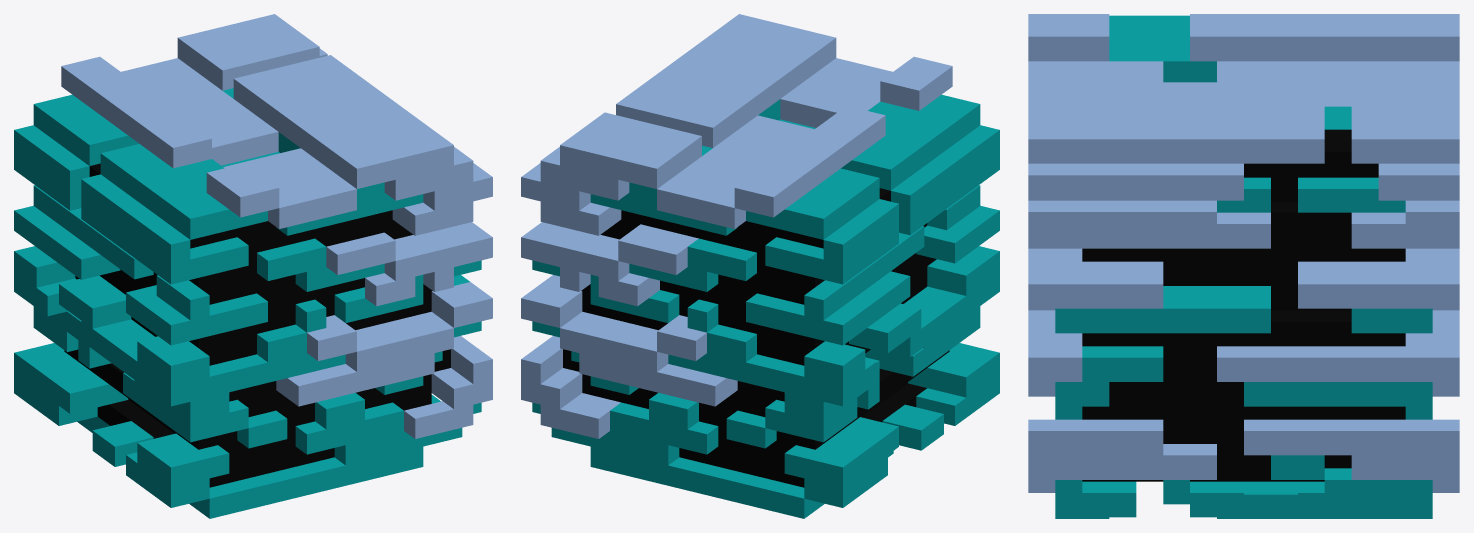
Rendered from br-m-rock-aqua.fbx.
3 renders of one model, left to right at view 1: azimuth 30°, elevation 25°; view 2: azimuth 150°, elevation 25°; view 3: azimuth 270°, elevation 25°, orthographic. The views are drawn at different scales.
Parts seen in each view (by area): view 1: br_m_rock_aqua; view 2: br_m_rock_aqua; view 3: br_m_rock_aqua.
Part boxes in pixels (x1,y1,x2,y2): br_m_rock_aqua: (14,14,492,518); br_m_rock_aqua: (521,14,999,518); br_m_rock_aqua: (1028,14,1459,518).
Size of the model in its own units: 1 by 1 by 0.999.
